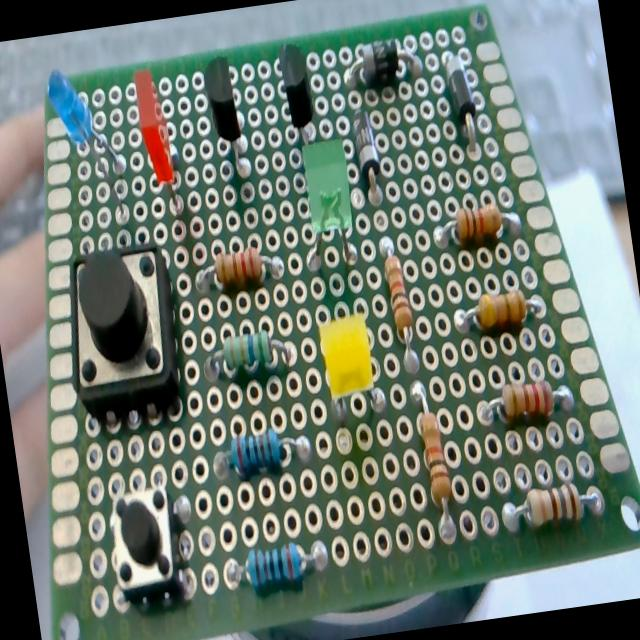diode: (342, 34, 426, 91), (441, 49, 483, 158), (350, 108, 389, 219)
led: (42, 59, 132, 212), (130, 66, 187, 226), (316, 316, 389, 422), (301, 140, 353, 232)
resistor: (412, 377, 460, 541), (224, 536, 334, 600), (212, 422, 314, 482), (200, 325, 296, 384), (379, 243, 422, 372), (502, 478, 602, 533), (434, 198, 524, 252), (478, 376, 570, 426), (193, 246, 283, 296), (458, 287, 536, 336)
switch: (55, 238, 189, 428), (104, 478, 203, 610)
transistor: (200, 52, 254, 183), (276, 40, 319, 144)
